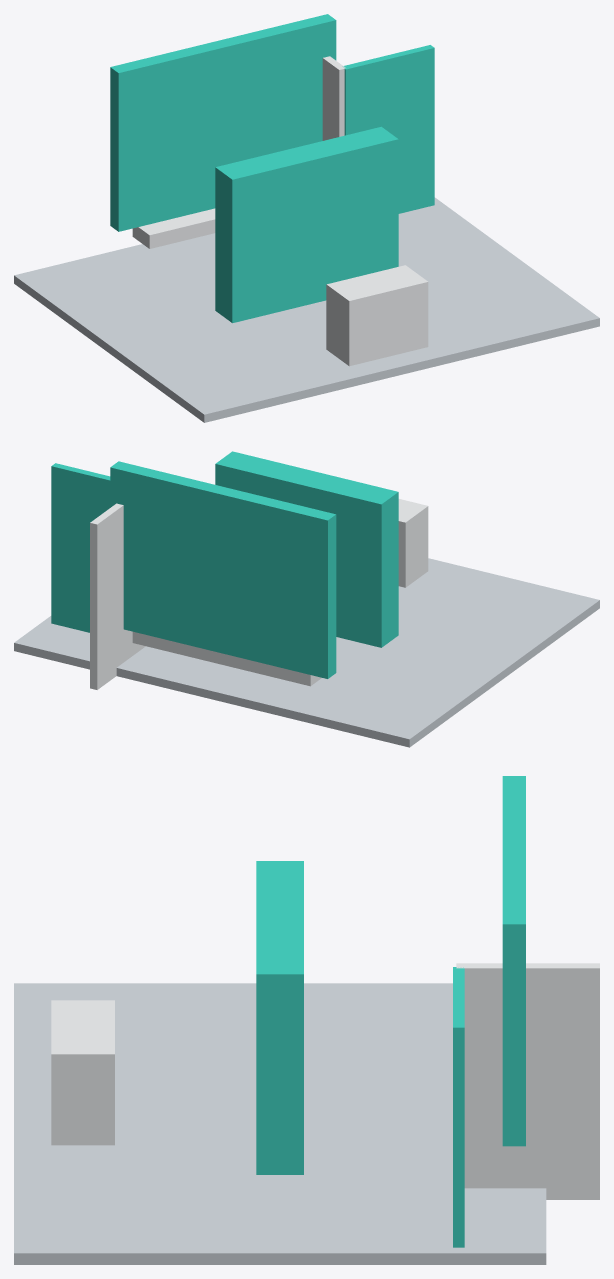
The picture shows the model from 3 angles, top to bottom: view 1: azimuth 30°, elevation 25°; view 2: azimuth 150°, elevation 25°; view 3: azimuth 270°, elevation 25°; orthographic projection. The views are drawn at different scales.
Parts seen in each view (by area): view 1: Exhibition Booth Concept; view 2: Exhibition Booth Concept; view 3: Exhibition Booth Concept.
Part boxes in pixels (box(x1,y1,x2,y2)): Exhibition Booth Concept: box(14, 14, 599, 422); Exhibition Booth Concept: box(14, 451, 599, 747); Exhibition Booth Concept: box(14, 776, 599, 1264).
Size of the model in its own units: 6 by 2.9 by 5.51.
